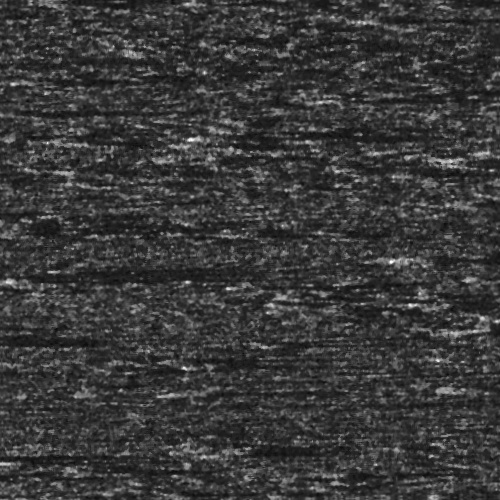object: (315, 14, 408, 25), (363, 254, 436, 265), (375, 301, 468, 308), (282, 96, 355, 101), (0, 267, 20, 284), (455, 327, 496, 334), (173, 388, 226, 393), (471, 149, 500, 158), (5, 75, 46, 78), (443, 383, 454, 394), (0, 107, 25, 110)
shadow: (4, 267, 221, 284), (0, 51, 162, 62), (362, 14, 500, 25), (0, 267, 270, 272), (400, 254, 500, 265), (319, 96, 476, 101), (199, 388, 352, 393), (4, 107, 223, 110), (448, 383, 500, 394), (422, 301, 500, 308), (25, 75, 173, 78), (482, 201, 500, 202)
